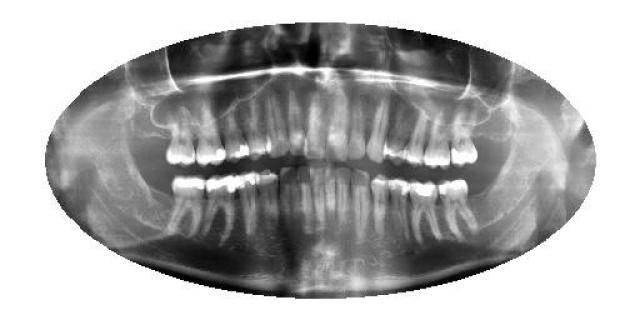Fillings: (165, 175, 206, 235), (202, 174, 238, 242), (195, 100, 226, 170), (410, 177, 439, 245), (449, 108, 479, 166), (235, 171, 260, 239), (224, 110, 250, 165)
